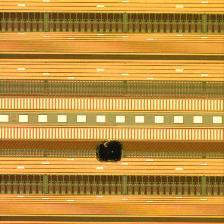PARTICLE: (95, 137, 127, 169)
